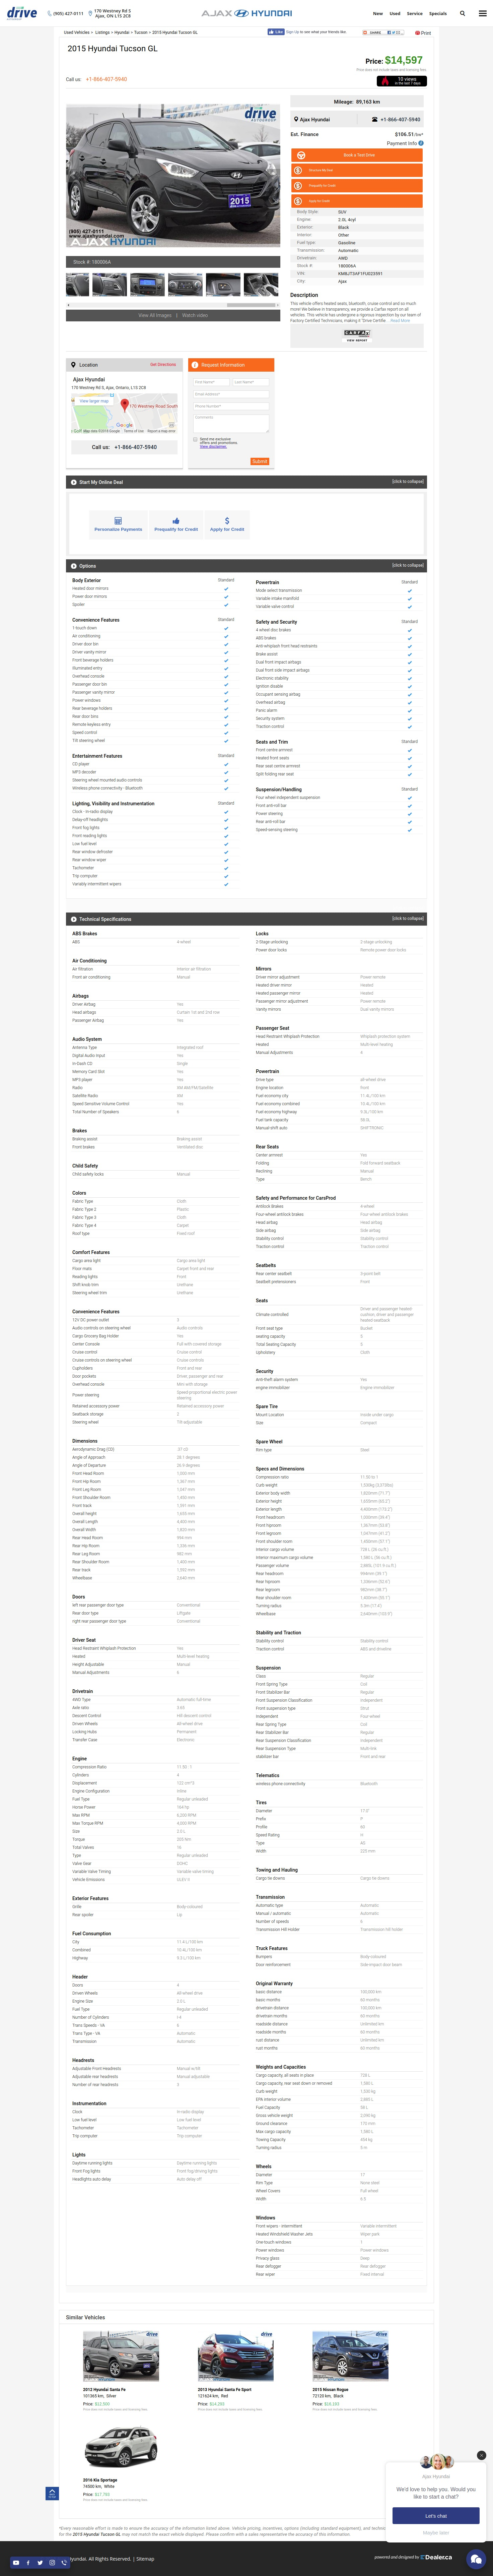car: (276, 302, 281, 309)
